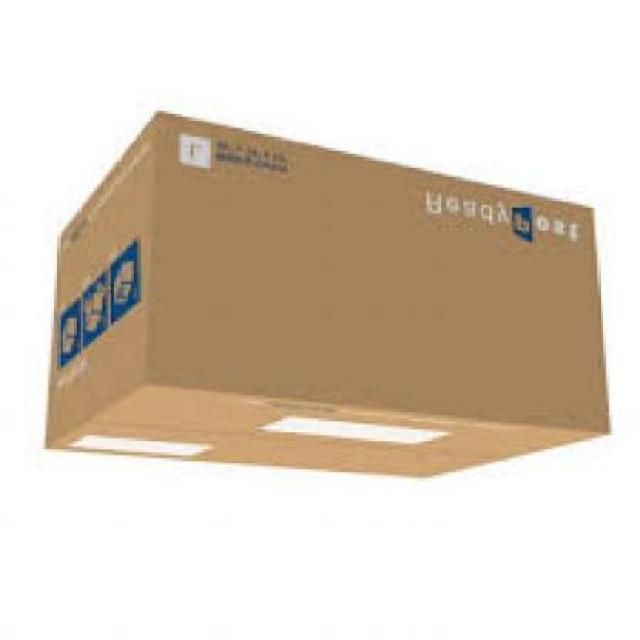box: (43, 117, 609, 480)
